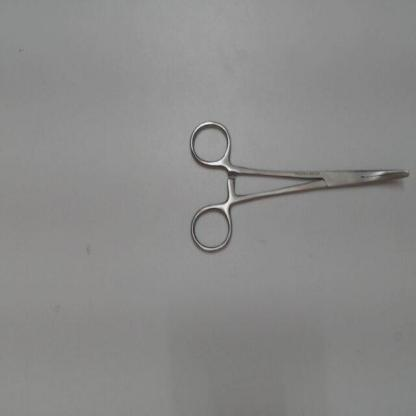Crile Artery Forceps: (184, 111, 413, 261)
